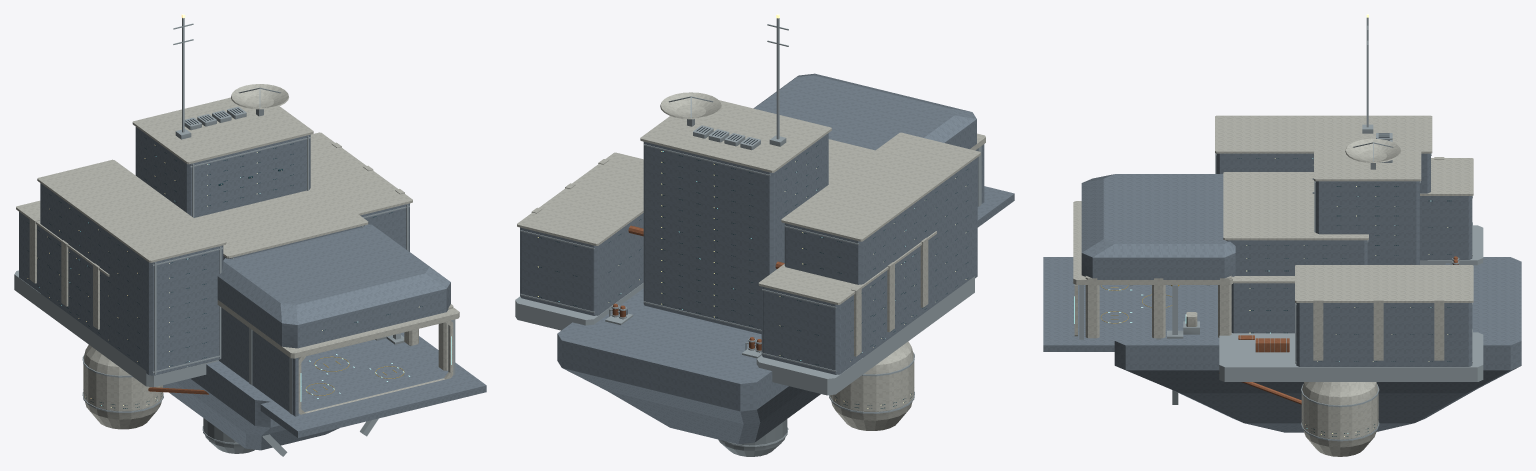
The model's file is gatehouse-twelve.glb.
3 views of the same model, side by side, from view 1: azimuth 30°, elevation 25°; view 2: azimuth 150°, elevation 25°; view 3: azimuth 270°, elevation 25° (orthographic). The views are drawn at different scales.
Visible parts, largest first — view 1: gatehouse-twelve / hull, gatehouse-twelve / armor, gatehouse-twelve / metal, gatehouse-twelve / glass; view 2: gatehouse-twelve / hull, gatehouse-twelve / armor, gatehouse-twelve / metal, gatehouse-twelve / glass; view 3: gatehouse-twelve / hull, gatehouse-twelve / armor, gatehouse-twelve / metal, gatehouse-twelve / copper.
Part boxes in pixels (x1,y1,x2,y2): gatehouse-twelve / hull: (19,127,486,450); gatehouse-twelve / armor: (16,84,459,429); gatehouse-twelve / metal: (14,18,455,456); gatehouse-twelve / glass: (27,137,422,408); gatehouse-twelve / hull: (520,73,1014,444); gatehouse-twelve / armor: (517,92,985,430); gatehouse-twelve / metal: (515,18,981,456); gatehouse-twelve / glass: (539,145,968,408); gatehouse-twelve / hull: (1043,153,1521,432); gatehouse-twelve / armor: (1073,115,1473,456); gatehouse-twelve / metal: (1079,17,1483,441); gatehouse-twelve / copper: (1219,256,1458,404).
Bounding box in the file's own units: 124 × 167 × 174.
Materials: 9 (4 with a texture image).
